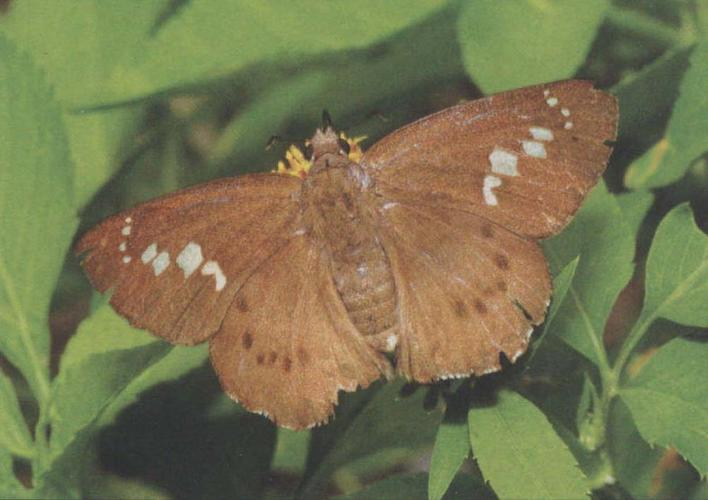Hesperiidae: (69, 77, 625, 436)
